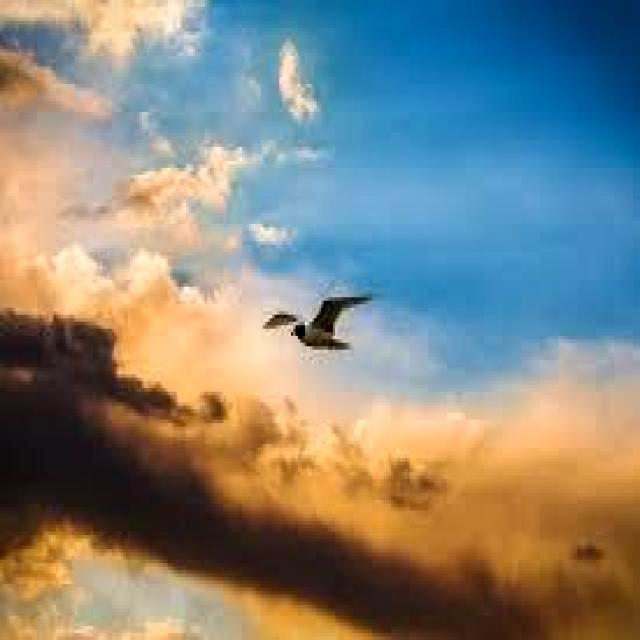bird: (262, 287, 376, 360)
